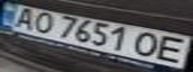1: (109, 24, 130, 53)
5: (90, 20, 112, 47)
6: (72, 17, 96, 45)
7: (51, 14, 78, 39)
A: (6, 6, 42, 29)
E: (151, 34, 193, 63)
O: (130, 29, 166, 58), (24, 10, 60, 35)
